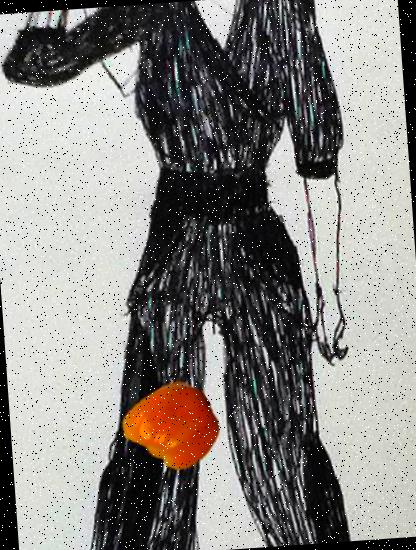Pepper: (124, 380, 222, 477)
